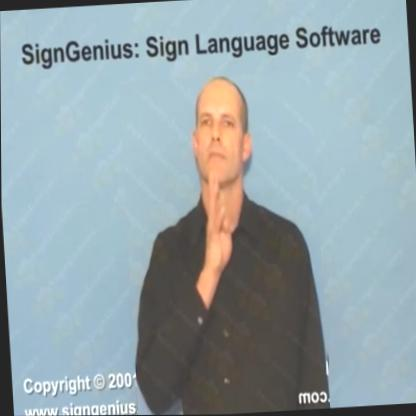Talk: (117, 71, 328, 415)
